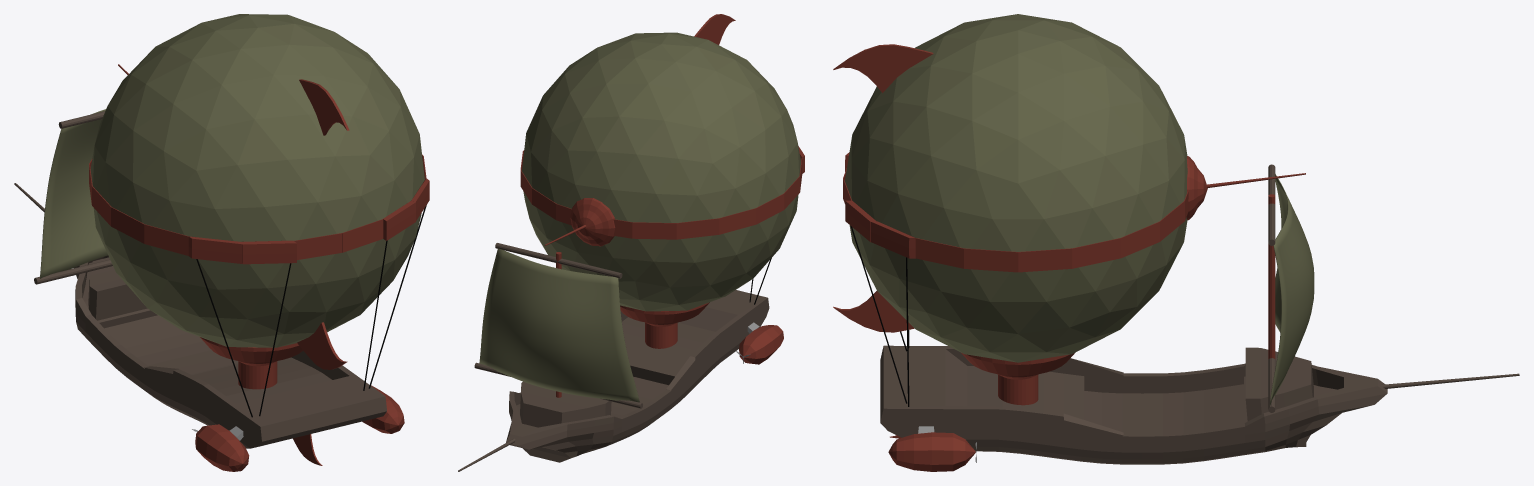
File: Airship2.fbx
3 views of the same model, side by side, from view 1: azimuth 30°, elevation 25°; view 2: azimuth 150°, elevation 25°; view 3: azimuth 270°, elevation 25° (orthographic). The views are drawn at different scales.
Parts seen in each view (by area): view 1: Balloon, Main_Base, Balloon_Plate, Sail, Balloon Connector, L_Engine, Top_Balloon_Fin, Bottom_Balloon_Fin, R_Engine, Balloon_Rope_1, Balloon_Rope_2, Bottom_Sail_Post; view 2: Balloon, Sail, Main_Base, Balloon_Plate, Balloon Connector, Balloon_Head, L_Engine, Top_Sail_Post, Top_Balloon_Fin; view 3: Balloon, Main_Base, Balloon_Plate, Sail, R_Engine, Balloon Connector, Top_Balloon_Fin, Bottom_Balloon_Fin, Sail_Connector, Balloon_Head.
Part boxes in pixels (left/top/right/bottom): Balloon: left=90, top=14, right=424, bottom=347; Main_Base: left=74, top=255, right=386, bottom=448; Balloon_Plate: left=89, top=154, right=429, bottom=264; Sail: left=40, top=109, right=107, bottom=278; Balloon Connector: left=200, top=337, right=303, bottom=389; L_Engine: left=195, top=424, right=249, bottom=471; Top_Balloon_Fin: left=299, top=79, right=349, bottom=135; Bottom_Balloon_Fin: left=297, top=322, right=347, bottom=369; R_Engine: left=362, top=385, right=404, bottom=433; Balloon_Rope_1: left=196, top=205, right=426, bottom=417; Balloon_Rope_2: left=259, top=240, right=387, bottom=416; Bottom_Sail_Post: left=34, top=259, right=112, bottom=284; Balloon: left=522, top=32, right=800, bottom=311; Sail: left=479, top=248, right=639, bottom=402; Main_Base: left=506, top=290, right=769, bottom=462; Balloon_Plate: left=520, top=146, right=804, bottom=239; Balloon Connector: left=620, top=302, right=709, bottom=348; Balloon_Head: left=570, top=198, right=615, bottom=246; L_Engine: left=739, top=325, right=783, bottom=364; Top_Sail_Post: left=495, top=243, right=622, bottom=278; Top_Balloon_Fin: left=694, top=14, right=735, bottom=44; Balloon: left=845, top=14, right=1187, bottom=362; Main_Base: left=880, top=345, right=1387, bottom=464; Balloon_Plate: left=843, top=152, right=1188, bottom=272; Sail: left=1269, top=174, right=1314, bottom=405; R_Engine: left=888, top=432, right=975, bottom=471; Balloon Connector: left=961, top=352, right=1075, bottom=405; Top_Balloon_Fin: left=833, top=44, right=933, bottom=92; Bottom_Balloon_Fin: left=833, top=291, right=914, bottom=332; Sail_Connector: left=1268, top=194, right=1275, bottom=358; Balloon_Head: left=1186, top=156, right=1207, bottom=220.
Bounding box in the file's own units: 1353 × 1802 × 2649.
